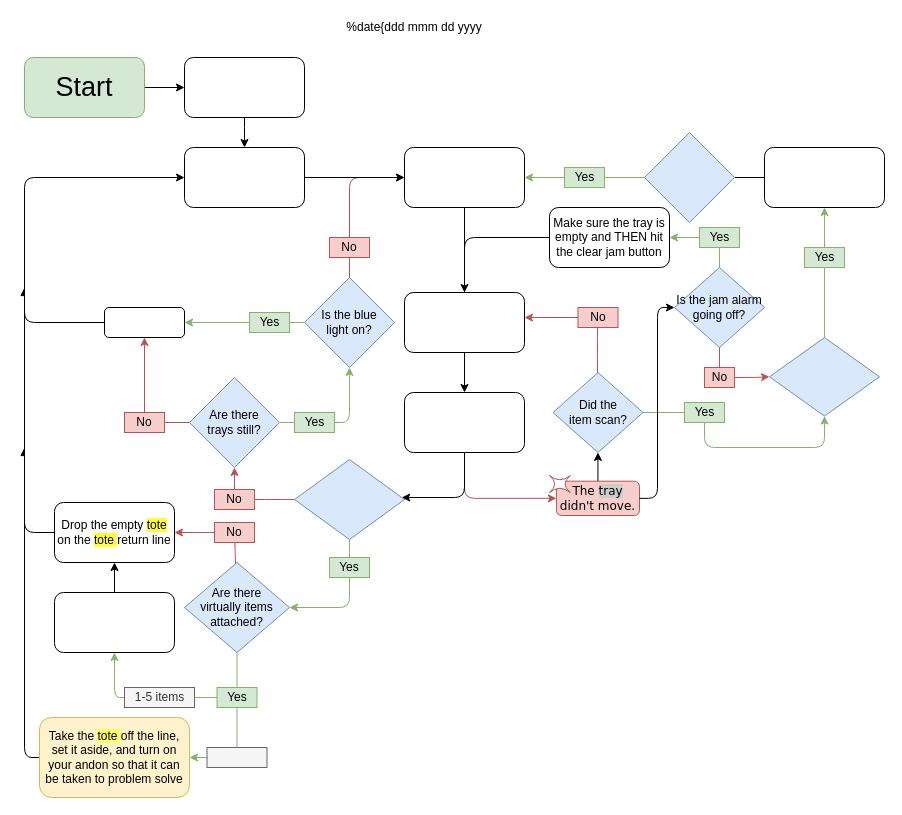
Some shapes in this 902 by 815 pixel diagram are drawn without their labels. The shapes that lost their labels are listed below. From the top down, each one's centre as x and y in pixels, then its label:
the point at 244,87: Log in
the point at 244,177: Scan tote
the point at 464,177: Grab an item from the tote
the point at 689,177: Did the tray move?
the point at 824,177: Move whatever is blocking the light wall
the point at 144,322: Switch sides
the point at 464,322: Scan the item
the point at 824,376: Is the light wall blocked?
the point at 464,422: Place item in tray
the point at 349,499: Is the tote physically empty?
the point at 114,622: Press "tote empty"
the point at 236,757: 6+ items
